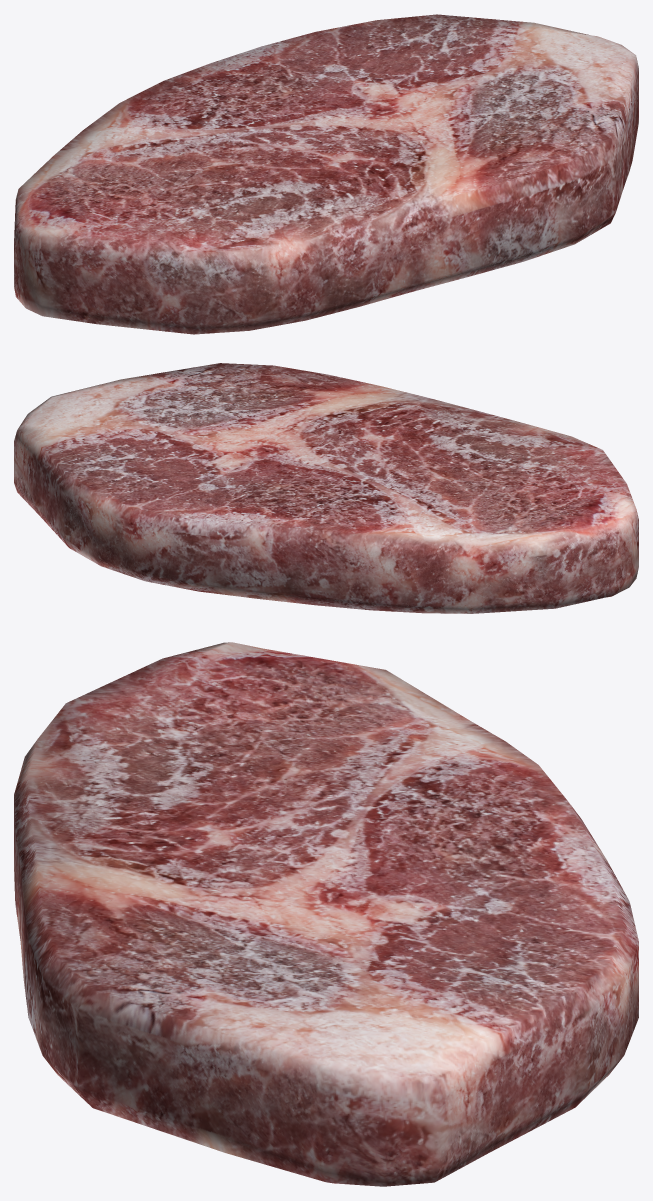
File: Daging Beku.fbx
3 views of the same model, one above another, from view 1: azimuth 30°, elevation 25°; view 2: azimuth 150°, elevation 25°; view 3: azimuth 270°, elevation 25° (orthographic). The views are drawn at different scales.
Visible parts, largest first — view 1: Daging beku; view 2: Daging beku; view 3: Daging beku.
Part boxes in pixels (x1,y1,x2,y2): Daging beku: (14, 14, 638, 334); Daging beku: (14, 363, 638, 613); Daging beku: (14, 642, 638, 1186).
Size of the model in its own units: 13.99 by 1.91 by 8.41.
1 material, 1 textured.
